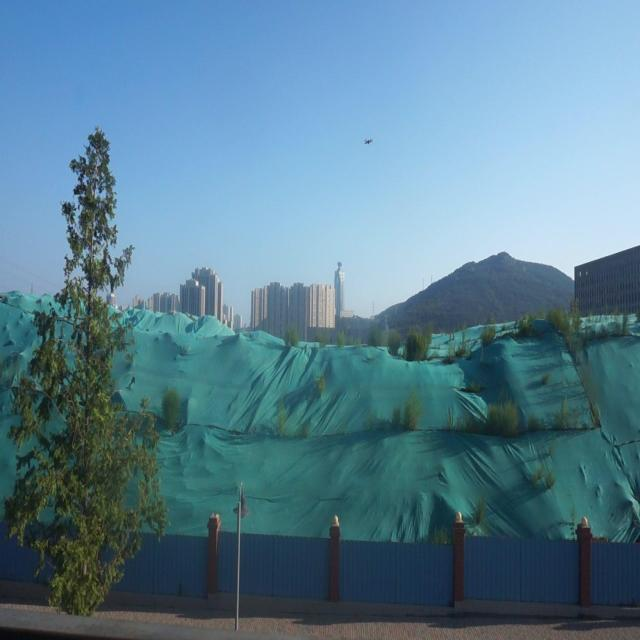drone: (362, 135, 376, 147)
